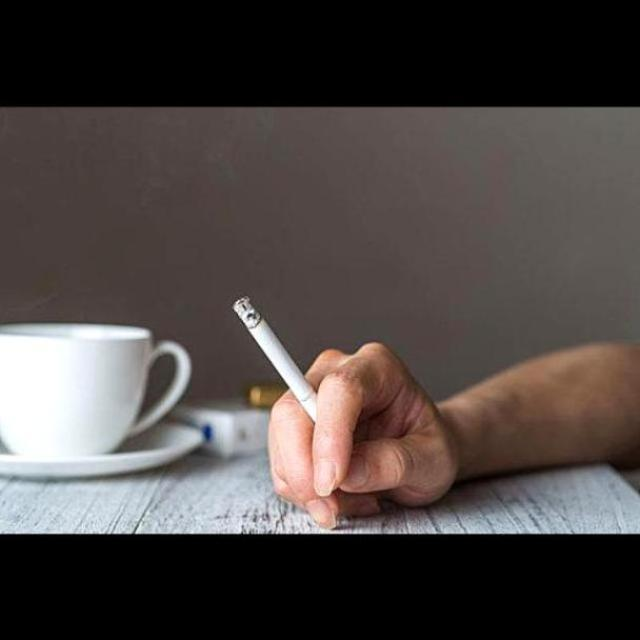rokok: (227, 291, 321, 425)
